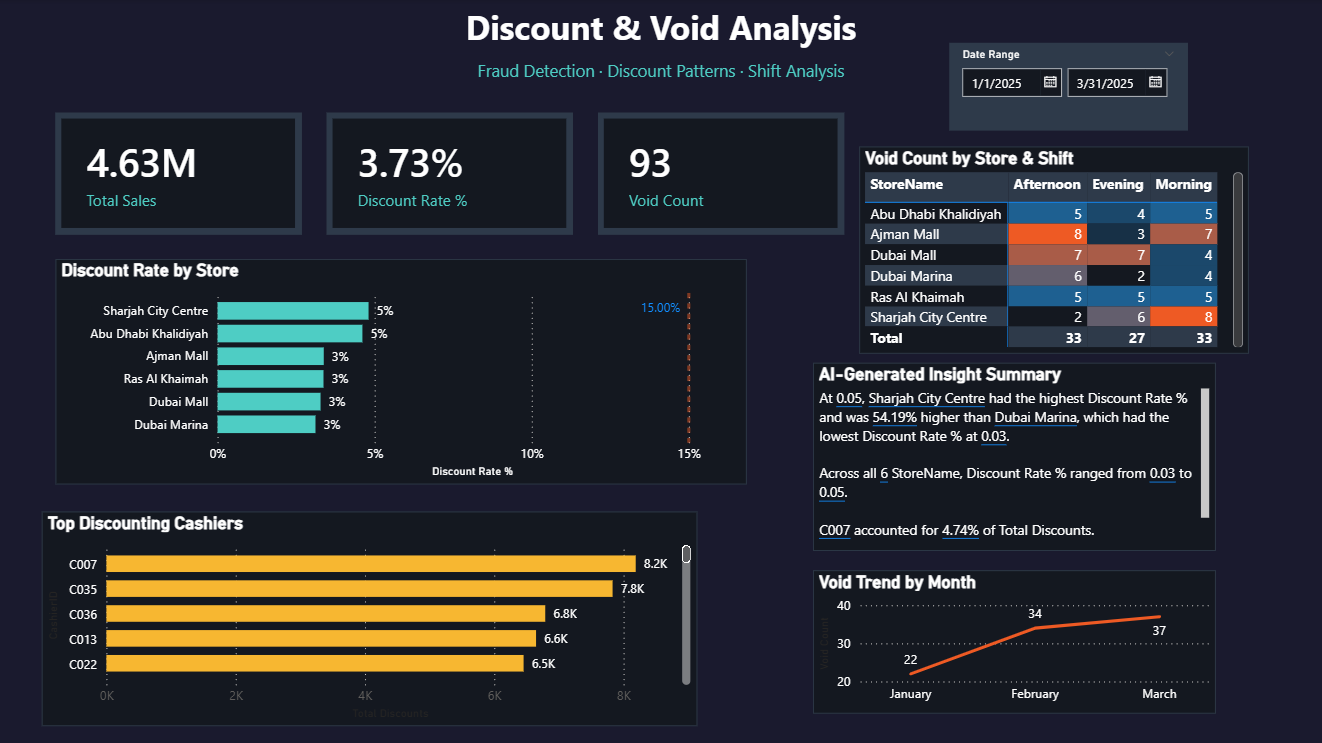

The page's visual inventory and layout, read from the dashboard file:
{"tool":"powerbi","page":{"name":"Discount & Void Analysis","canvas":[1280,720],"ordinal":2},"visuals":[{"type":"textbox","box":[0,0,1280,52.5],"z":0},{"type":"textbox","box":[402.5,52.5,473.8,32.5],"z":1000},{"type":"clusteredBarChart","title":"Discount Rate by Store","fields":{"Category":["UAE_Retail_Transactions.StoreName"],"Y":["_Measures.Discount Rate %"]},"box":[55,251.2,667.5,217.5],"z":2000},{"type":"pivotTable","title":"Void Count by Store & Shift","fields":{"Rows":["UAE_Retail_Transactions.StoreName"],"Columns":["UAE_Retail_Transactions.ShiftTime"],"Values":["_Measures.Void Count"]},"box":[831.2,142.5,376.2,200],"z":3000},{"type":"clusteredBarChart","title":"Top Discounting Cashiers","fields":{"Category":["UAE_Retail_Transactions.CashierID"],"Y":["_Measures.Total Discounts"]},"box":[42.5,495,632.5,207.5],"z":4000},{"type":"textbox","title":"AI-Generated Insight Summary","box":[786.2,351.2,388.8,181.2],"z":5000},{"type":"slicer","fields":{"Values":["DateTable.Date"]},"box":[917.5,42.5,230,85],"z":6000},{"type":"lineChart","title":"Void Trend by Month","fields":{"Category":["DateTable.MonthName"],"Y":["_Measures.Void Count"]},"box":[786.2,551.2,388.8,138.8],"z":7000},{"type":"cardVisual","fields":{"Data":["_Measures.Total Sales"]},"box":[55,110,237.5,117.5],"z":8000},{"type":"cardVisual","fields":{"Data":["_Measures.Discount Rate %"]},"box":[317.5,110,237.5,117.5],"z":9000},{"type":"cardVisual","fields":{"Data":["_Measures.Void Count"]},"box":[578.8,110,237.5,117.5],"z":10000}]}

Visuals, with their boxes in screenshot pixels (x1, y1, x2, y2), scaled from the page's 1280x720 canvas onto the 1322x743 screenshot:
textbox: 0, 0, 1321, 54
textbox: 416, 54, 905, 88
"Discount Rate by Store" clusteredBarChart: 57, 259, 746, 484
"Void Count by Store & Shift" pivotTable: 858, 147, 1247, 353
"Top Discounting Cashiers" clusteredBarChart: 44, 511, 697, 725
"AI-Generated Insight Summary" textbox: 812, 362, 1214, 549
slicer - DateTable.Date: 948, 44, 1185, 132
"Void Trend by Month" lineChart: 812, 569, 1214, 712
cardVisual - _Measures.Total Sales: 57, 114, 302, 235
cardVisual - _Measures.Discount Rate %: 328, 114, 573, 235
cardVisual - _Measures.Void Count: 598, 114, 843, 235
